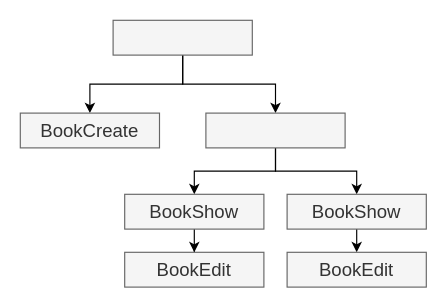
This 447x307 diagram has some shape labels left out. The shapes that lost their labels are listed below. From the top down, each one's centre as x and y in pixels, then its label:
the point at 182,37: App
the point at 275,130: BookList
